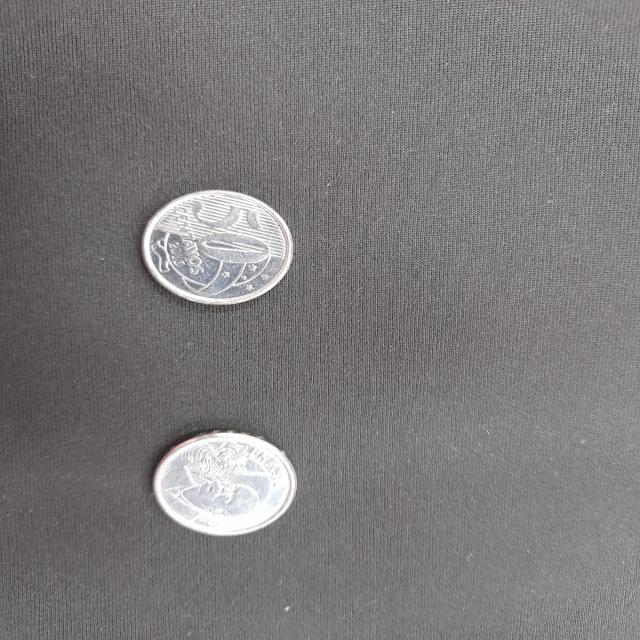50 cents: (131, 178, 304, 322), (144, 430, 315, 544)
